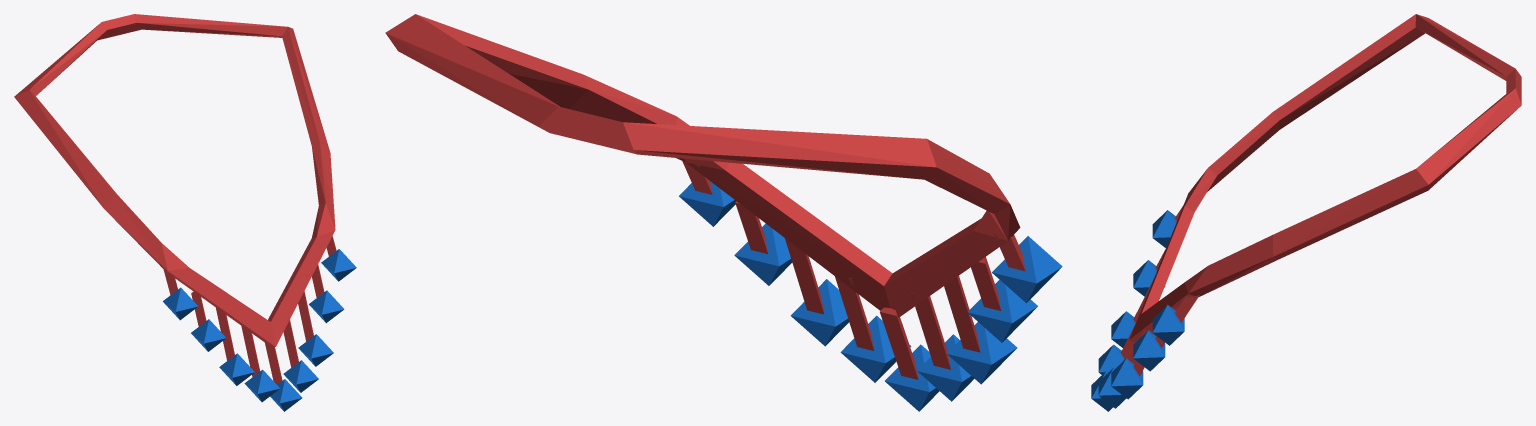
File: SM_necklace_8.fbx
3 renders of one model, left to right at view 1: azimuth 30°, elevation 25°; view 2: azimuth 150°, elevation 25°; view 3: azimuth 270°, elevation 25°, orthographic. The views are drawn at different scales.
Visible parts, largest first — view 1: Symmetry_6; view 2: Symmetry_6; view 3: Symmetry_6.
Boxes of the visible parts, x1,y1,x2,y2 form: Symmetry_6: (14, 14, 356, 411); Symmetry_6: (385, 14, 1062, 411); Symmetry_6: (1091, 14, 1521, 411).
Size of the model in its own units: 22 by 20.51 by 23.97.
